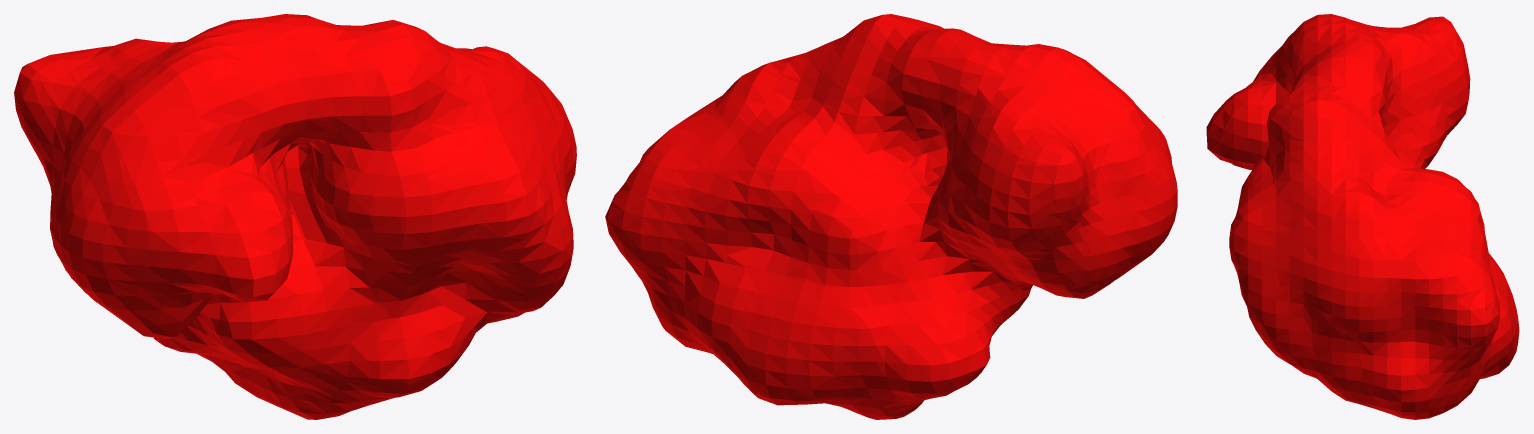
Rendered from allR_coarse.dae.
3 renders of one model, left to right at view 1: azimuth 30°, elevation 25°; view 2: azimuth 150°, elevation 25°; view 3: azimuth 270°, elevation 25°, orthographic. The views are drawn at different scales.
Parts seen in each view (by area): view 1: allR; view 2: allR; view 3: allR.
Boxes of the visible parts, x1,y1,x2,y2 form: allR: (14,14,576,419); allR: (605,14,1177,419); allR: (1206,14,1519,419).
Size of the model in its own units: 65.31 by 47.85 by 43.67.
